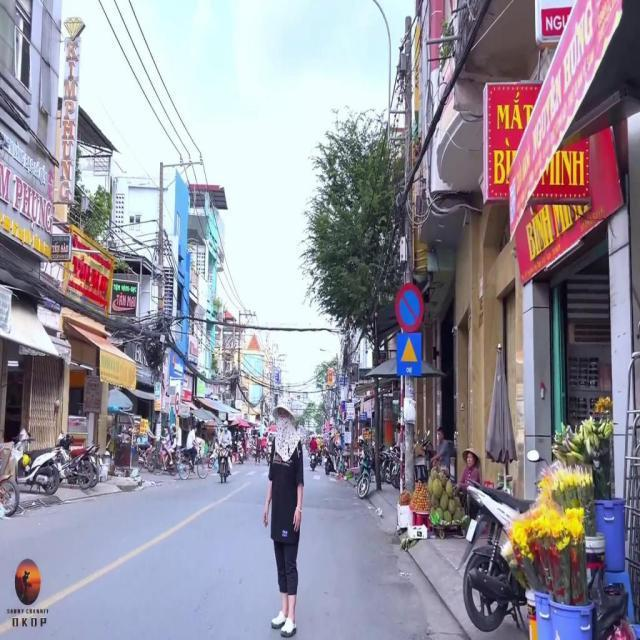106-cam-oto-tai: (176, 392, 180, 412)
131a-cam-do-xe: (394, 283, 424, 331)
442-cho: (396, 333, 422, 377)
